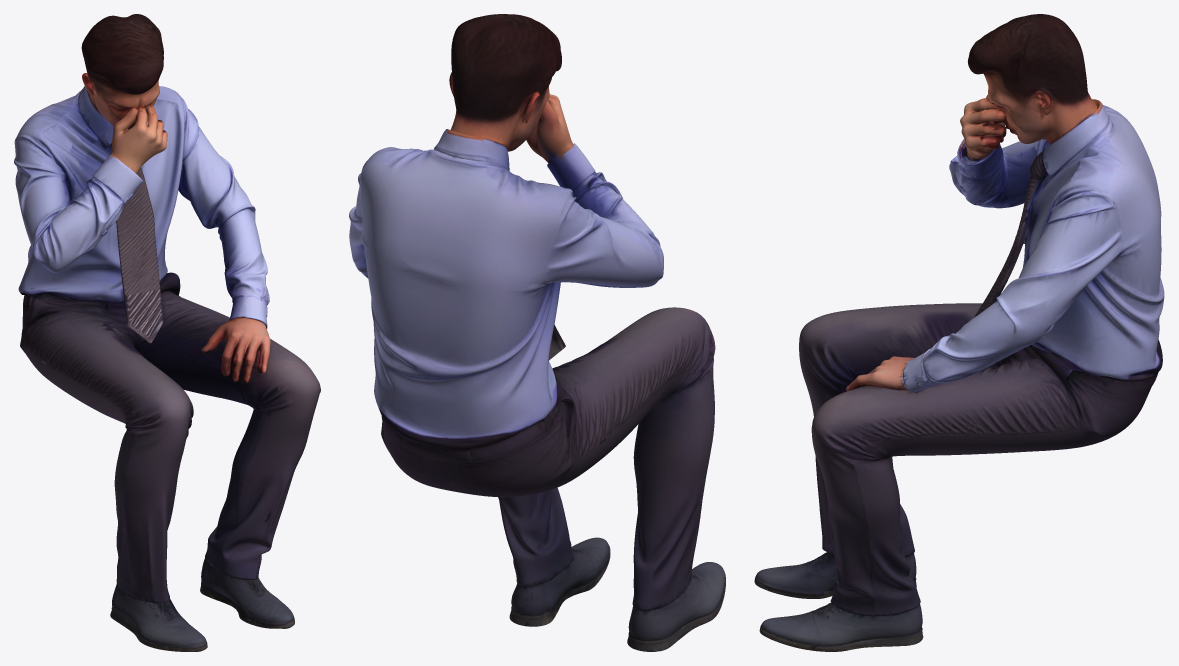
File: interviewee.glb
The picture shows the model from 3 angles, left to right: view 1: azimuth 30°, elevation 25°; view 2: azimuth 150°, elevation 25°; view 3: azimuth 270°, elevation 25°; orthographic projection. The views are drawn at different scales.
Visible parts, largest first — view 1: node_0; view 2: node_0; view 3: node_0.
Part boxes in pixels (x1,y1,x2,y2): node_0: [14, 14, 320, 651]; node_0: [349, 14, 725, 651]; node_0: [754, 14, 1164, 651].
Bounding box in the file's own units: 0.4674 × 1.03 × 0.6367.
1 material, 1 textured.
